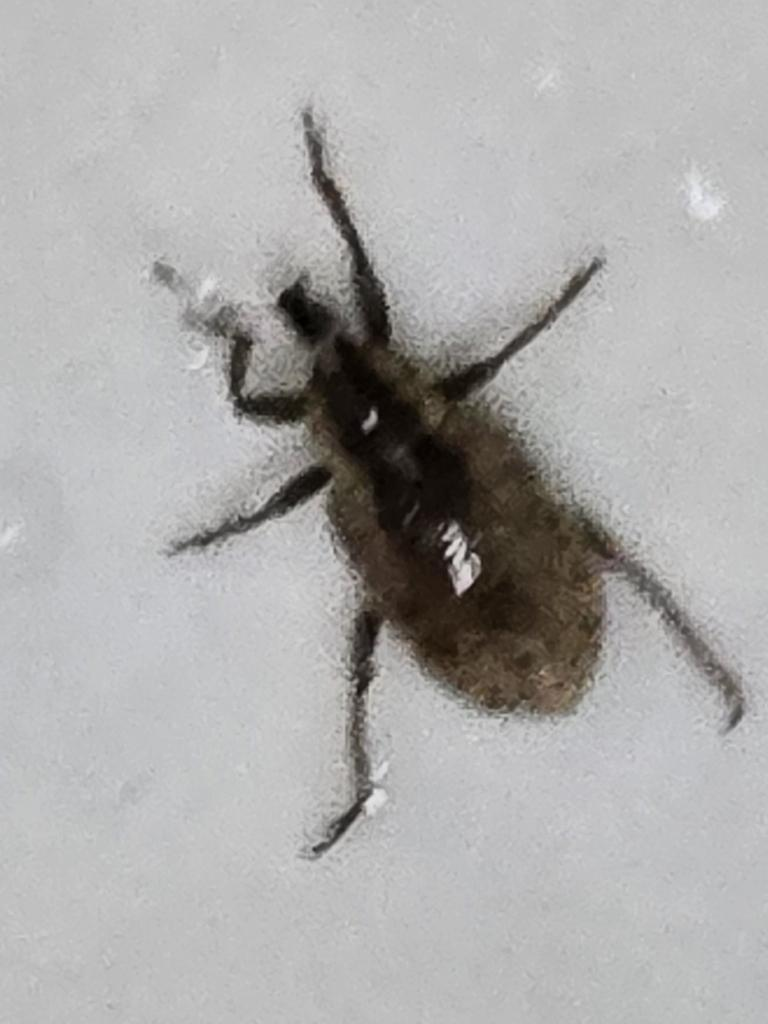weevils: (30, 76, 768, 936)
